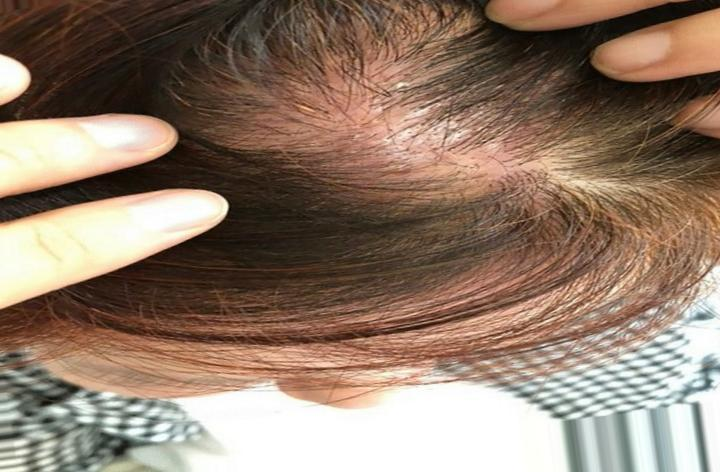Contact Dermatitis: (200, 10, 530, 256)
